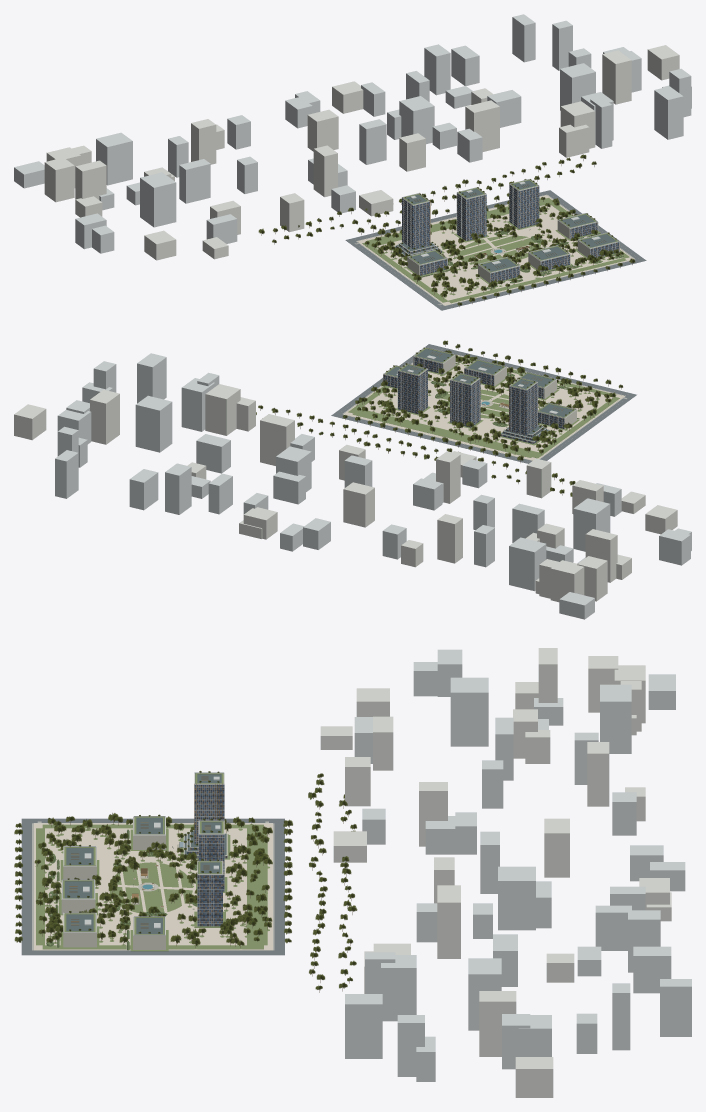
Rendered from pilot.glb.
3 views of the same model, one above another, from view 1: azimuth 30°, elevation 25°; view 2: azimuth 150°, elevation 25°; view 3: azimuth 270°, elevation 25° (orthographic). The views are drawn at different scales.
Parts seen in each view (by area): view 1: environment_city, environment_cityLight, environment_leavesCard, environment_path, environment_grass, environment_road, A1_glass, B1_glass, B2_glass, A1_frame, B1_frame, B2_frame (+1 smaller); view 2: environment_city, environment_cityLight, environment_leavesCard, environment_path, environment_grass, environment_road, A1_glass, B1_glass, B2_glass, A1_frame, B1_frame, B2_frame (+1 smaller); view 3: environment_city, environment_cityLight, environment_leavesCard, environment_path, environment_grass, environment_road, B2_glass, A1_glass, environment_stone, A1_frame, B1_glass, environment_bark.
Part boxes in pixels (x1=…): environment_city: x1=14, y1=14, x2=691, y2=253; environment_cityLight: x1=44, y1=45, x2=679, y2=260; environment_leavesCard: x1=258, y1=154, x2=635, y2=305; environment_path: x1=357, y1=195, x2=634, y2=305; environment_grass: x1=362, y1=198, x2=629, y2=303; environment_road: x1=345, y1=190, x2=646, y2=310; A1_glass: x1=394, y1=198, x2=441, y2=256; B1_glass: x1=457, y1=193, x2=486, y2=240; B2_glass: x1=509, y1=185, x2=539, y2=228; A1_frame: x1=395, y1=193, x2=440, y2=254; B1_frame: x1=456, y1=187, x2=486, y2=240; B2_frame: x1=509, y1=179, x2=539, y2=228; environment_city: x1=55, y1=353, x2=691, y2=619; environment_cityLight: x1=14, y1=384, x2=677, y2=602; environment_leavesCard: x1=256, y1=340, x2=622, y2=496; environment_path: x1=343, y1=355, x2=624, y2=460; environment_grass: x1=348, y1=356, x2=619, y2=458; environment_road: x1=331, y1=344, x2=636, y2=463; A1_glass: x1=500, y1=383, x2=546, y2=443; B1_glass: x1=450, y1=379, x2=480, y2=427; B2_glass: x1=398, y1=370, x2=427, y2=413; A1_frame: x1=501, y1=377, x2=548, y2=443; B1_frame: x1=450, y1=373, x2=480, y2=426; B2_frame: x1=397, y1=363, x2=427, y2=413; environment_city: x1=345, y1=649, x2=691, y2=1081; environment_cityLight: x1=320, y1=648, x2=671, y2=1097; environment_leavesCard: x1=14, y1=773, x2=357, y2=989; environment_path: x1=33, y1=823, x2=272, y2=950; environment_grass: x1=35, y1=824, x2=269, y2=951; environment_road: x1=21, y1=818, x2=284, y2=955; B2_glass: x1=197, y1=875, x2=222, y2=926; A1_glass: x1=187, y1=785, x2=227, y2=858; environment_stone: x1=32, y1=823, x2=274, y2=950; A1_frame: x1=194, y1=772, x2=227, y2=857; B1_glass: x1=199, y1=835, x2=224, y2=891; environment_bark: x1=37, y1=777, x2=352, y2=992.
Size of what is drawn, in the model's own units: 1315 by 107 by 906.
Materials: 34 (2 with a texture image).
